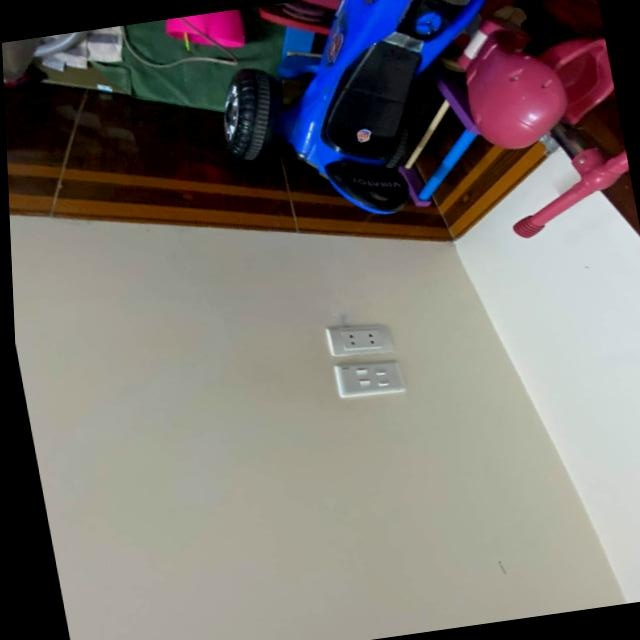outlet: (325, 317, 396, 360)
